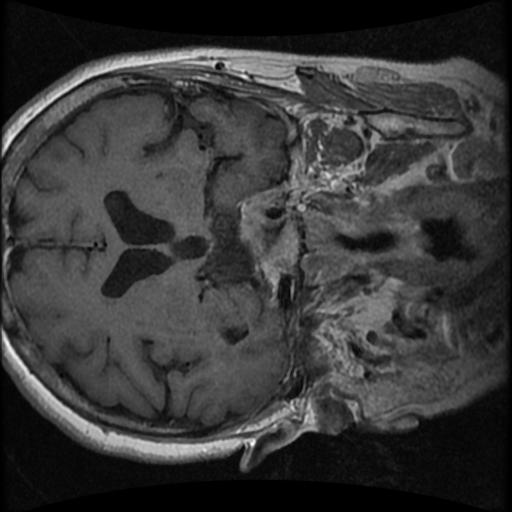pituitary tumour: (239, 183, 297, 288)
